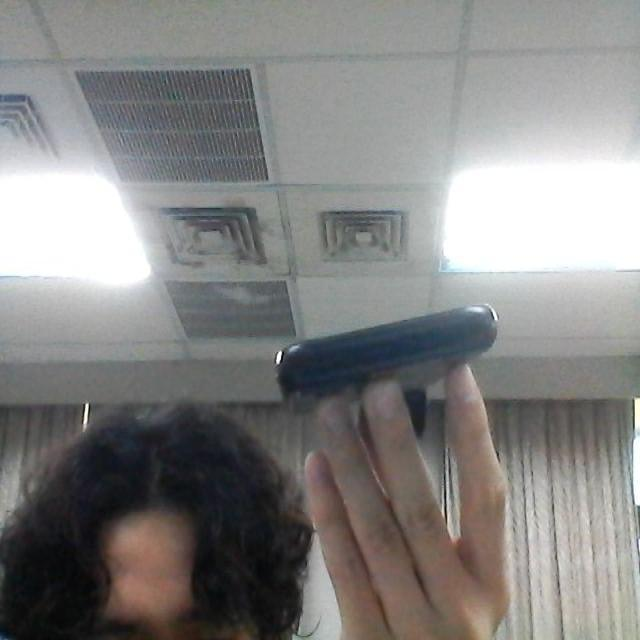phone: (272, 294, 498, 408)
